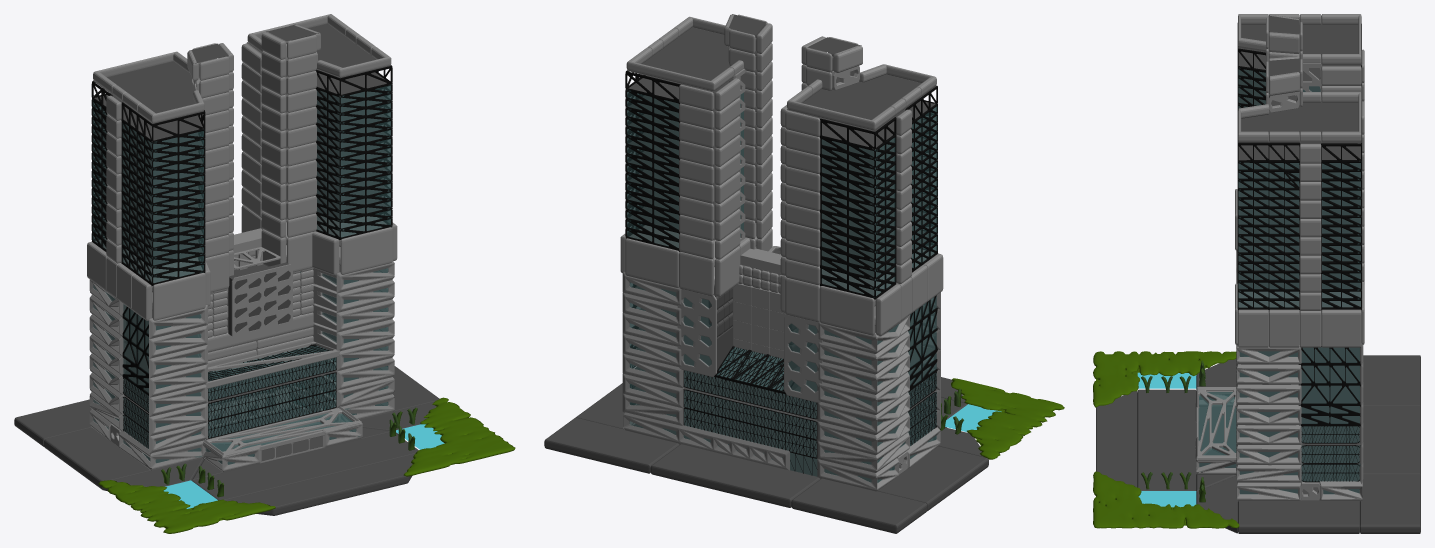
3 renders of one model, left to right at view 1: azimuth 30°, elevation 25°; view 2: azimuth 150°, elevation 25°; view 3: azimuth 270°, elevation 25°, orthographic. The views are drawn at different scales.
Parts seen in each view (by area): view 1: st1_40, st2_18, ground slab_0, g1_35, g slab 1_41, glass2_37, veg patch_45, glass1_3, e wall_32, rs1_42, rw1_44, e wall 1_4 (+18 smaller); view 2: st1_40, st2_18, ground slab_0, g slab 1_41, g2_36, glass2_37, glass1_3, rs1_42, rw1_44, e wall 3_24, s core 1_14, veg patch_45 (+16 smaller); view 3: ground slab_0, g slab 1_41, st1_40, st2_18, glass2_37, veg patch_45, g1_35, rs1_42, rw1_44, g2_36, glass slab 2_22, glass1_3 (+11 smaller).
Part boxes in pixels (left/top/right/bottom): st1_40: left=87, top=24, right=397, bottom=320; st2_18: left=89, top=261, right=394, bottom=472; ground slab_0: left=14, top=366, right=439, bottom=515; g1_35: left=121, top=65, right=392, bottom=285; g slab 1_41: left=94, top=72, right=388, bottom=448; glass2_37: left=92, top=84, right=391, bottom=282; veg patch_45: left=98, top=397, right=515, bottom=533; glass1_3: left=93, top=268, right=388, bottom=462; e wall_32: left=208, top=267, right=314, bottom=367; rs1_42: left=93, top=24, right=390, bottom=123; rw1_44: left=93, top=14, right=391, bottom=123; e wall 1_4: left=196, top=268, right=342, bottom=457; st1_40: left=620, top=14, right=943, bottom=335; st2_18: left=622, top=271, right=940, bottom=491; ground slab_0: left=544, top=377, right=988, bottom=533; g slab 1_41: left=627, top=75, right=936, bottom=464; g2_36: left=625, top=71, right=896, bottom=299; glass2_37: left=626, top=90, right=937, bottom=297; glass1_3: left=629, top=282, right=936, bottom=482; rs1_42: left=626, top=27, right=936, bottom=131; rw1_44: left=626, top=16, right=936, bottom=130; e wall 3_24: left=677, top=249, right=822, bottom=402; s core 1_14: left=728, top=248, right=813, bottom=418; veg patch_45: left=951, top=378, right=1064, bottom=459; ground slab_0: left=1096, top=355, right=1420, bottom=533; g slab 1_41: left=1238, top=51, right=1361, bottom=480; st1_40: left=1235, top=14, right=1364, bottom=347; st2_18: left=1195, top=250, right=1363, bottom=501; glass2_37: left=1238, top=67, right=1361, bottom=307; veg patch_45: left=1093, top=351, right=1239, bottom=528; g1_35: left=1237, top=23, right=1300, bottom=309; rs1_42: left=1238, top=23, right=1361, bottom=142; rw1_44: left=1238, top=14, right=1361, bottom=142; g2_36: left=1321, top=24, right=1361, bottom=310; glass slab 2_22: left=1301, top=347, right=1359, bottom=423; glass1_3: left=1239, top=351, right=1360, bottom=494.
Bounding box in the file's own units: 2.07 × 2.19 × 1.61.
